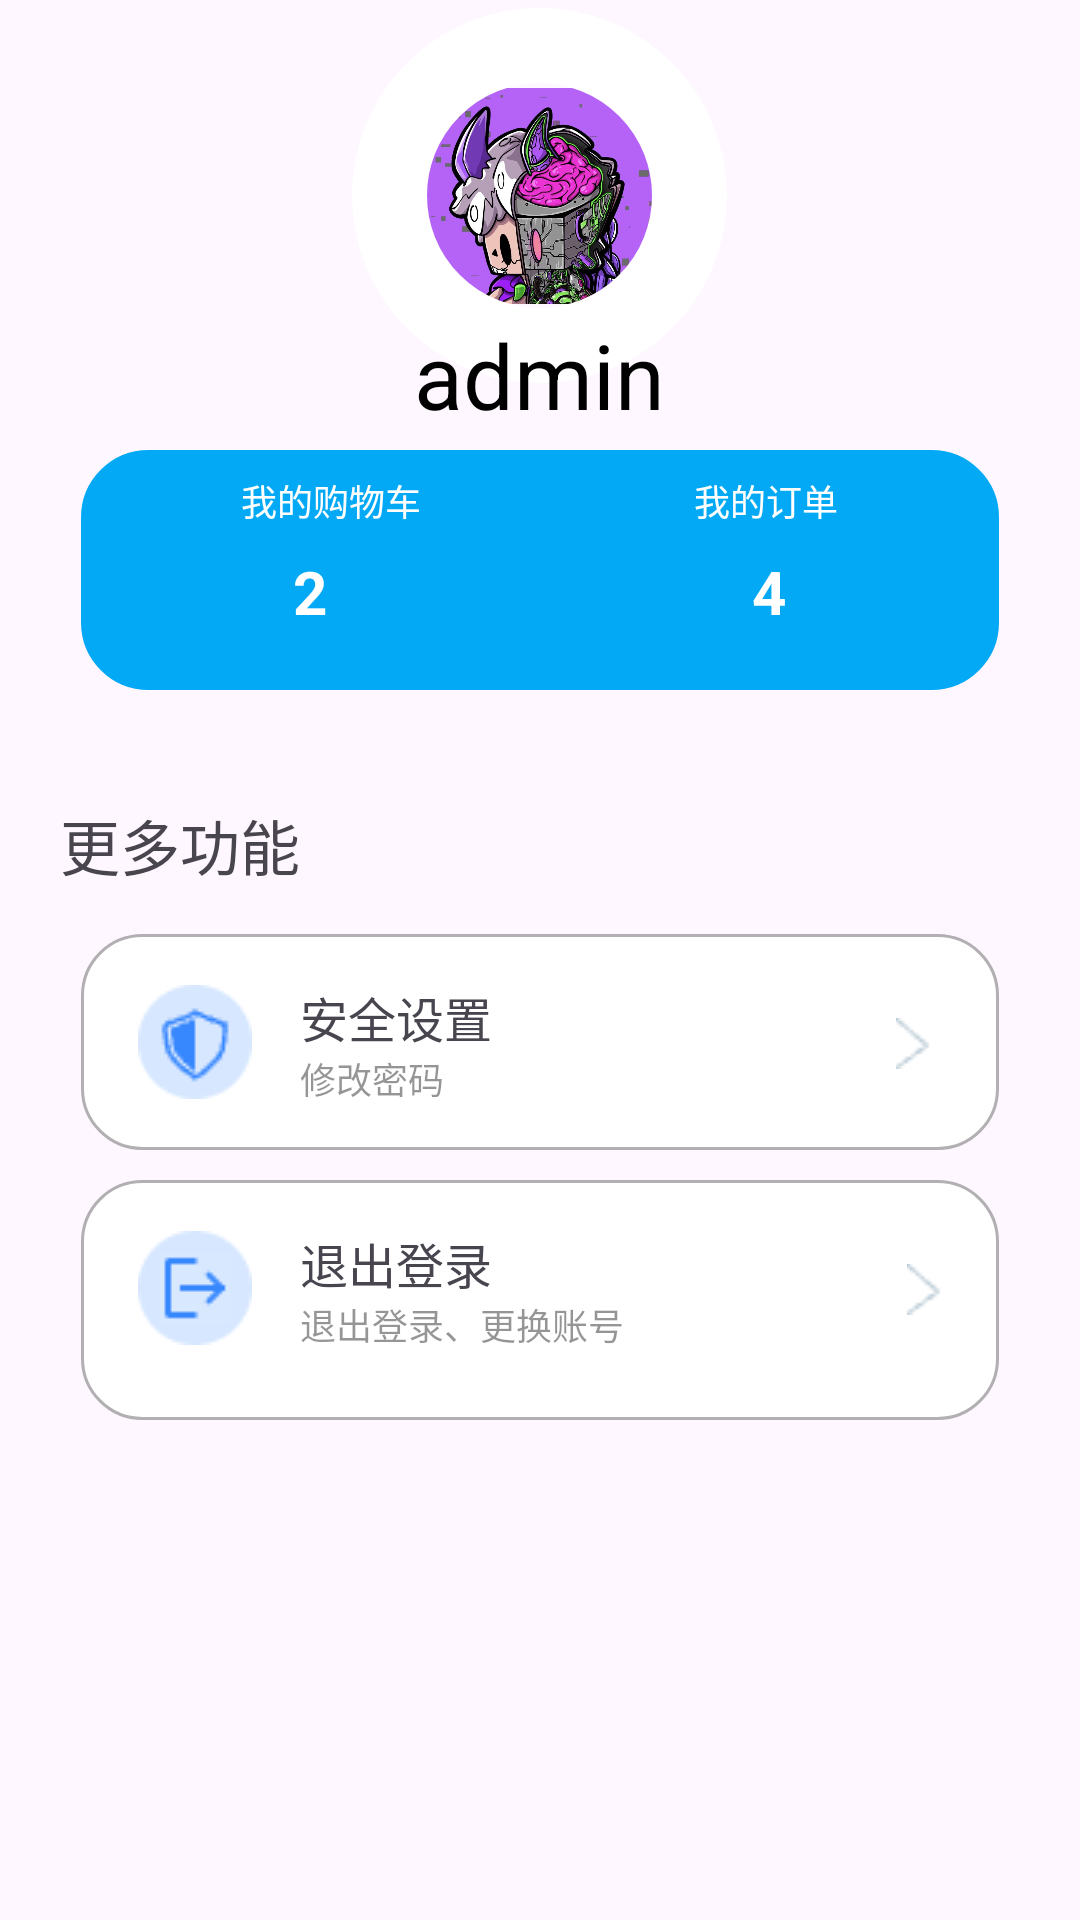

Icons on this 1080 x 1920 Android screen, each with its box as (x1, y1, x2, y2):
exit: (138, 1231, 252, 1345)
security: (138, 985, 252, 1099)
user: (427, 88, 652, 304)
